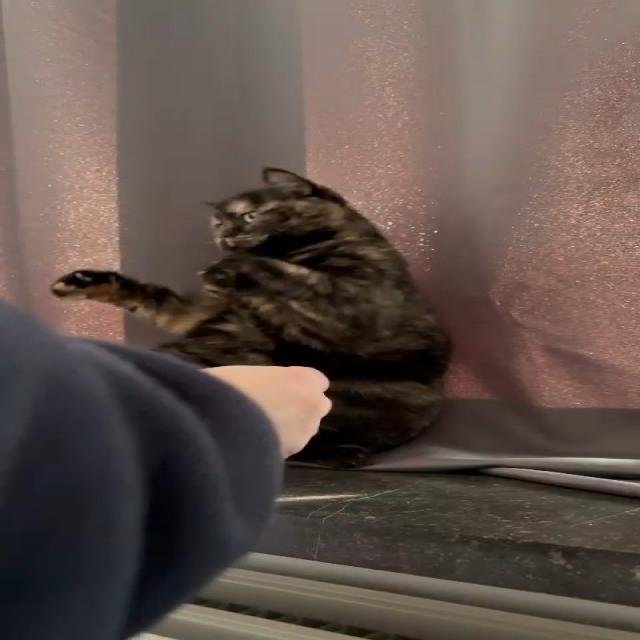authorized: (49, 165, 453, 469)
